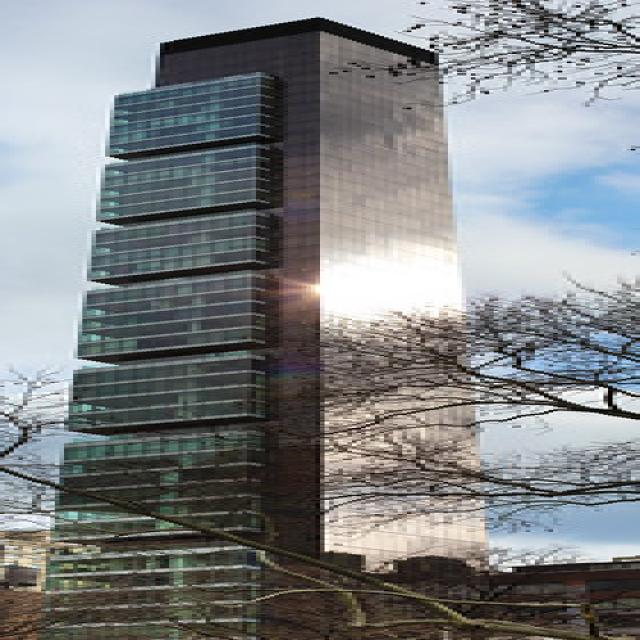building: (37, 15, 512, 637)
